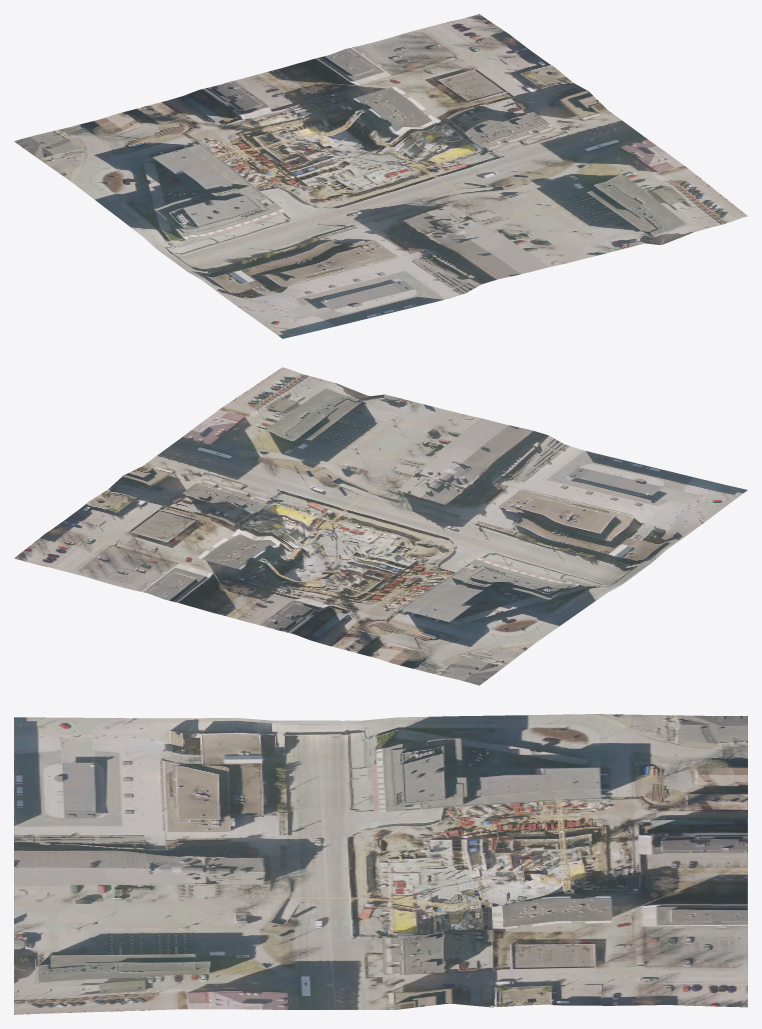
File: CM_Terrain_24488001_6821022.fbx
3 views of the same model, one above another, from view 1: azimuth 30°, elevation 25°; view 2: azimuth 150°, elevation 25°; view 3: azimuth 270°, elevation 25° (orthographic). The views are drawn at different scales.
Visible parts, largest first — view 1: CM_Terrain_24488001_6821022_LOD0; view 2: CM_Terrain_24488001_6821022_LOD0; view 3: CM_Terrain_24488001_6821022_LOD0.
Part boxes in pixels (bbox=[...]): CM_Terrain_24488001_6821022_LOD0: bbox=[14, 14, 747, 338]; CM_Terrain_24488001_6821022_LOD0: bbox=[14, 367, 747, 685]; CM_Terrain_24488001_6821022_LOD0: bbox=[14, 714, 747, 1014].
Size of what is drawn, in the model's own units: 205 by 11.98 by 205.
